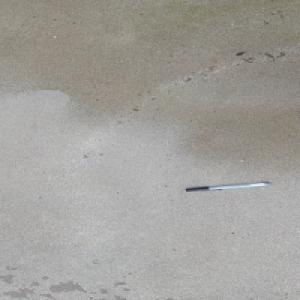Pen: (184, 181, 272, 192)
